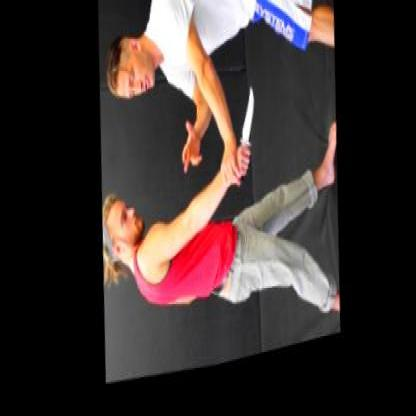knife: (228, 92, 260, 202)
